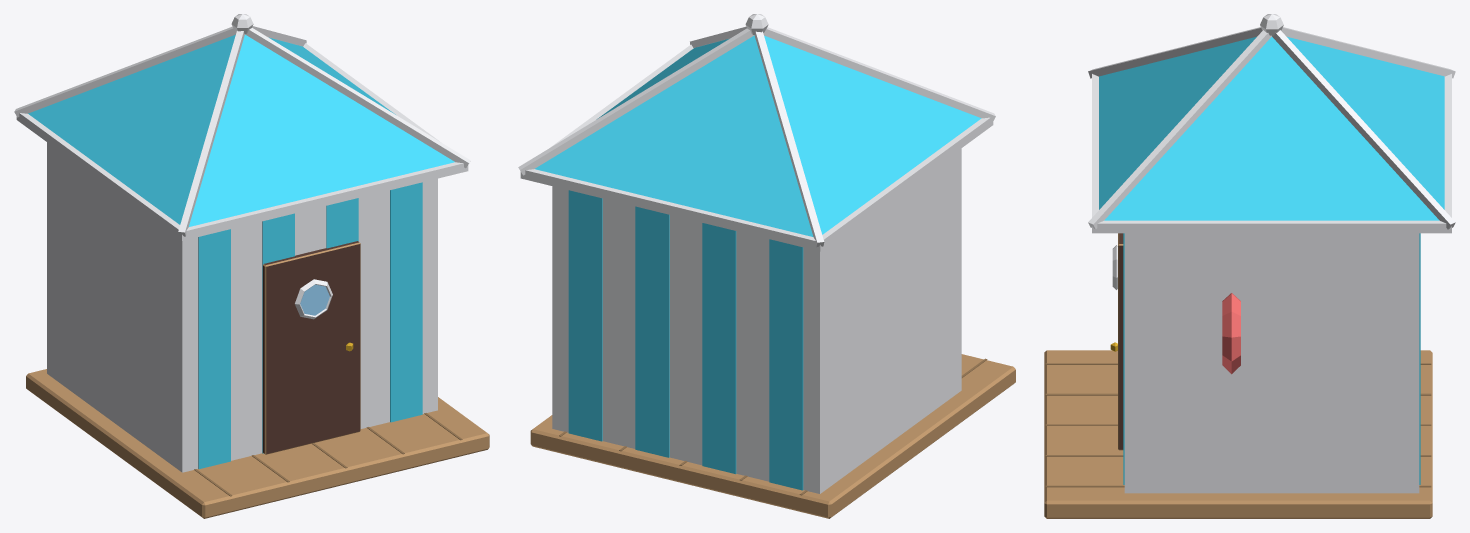
The model's file is beachHut.glb.
The picture shows the model from 3 angles, left to right: view 1: azimuth 30°, elevation 25°; view 2: azimuth 150°, elevation 25°; view 3: azimuth 270°, elevation 25°; orthographic projection. The views are drawn at different scales.
Parts seen in each view (by area): view 1: beachHut-m; view 2: beachHut-m; view 3: beachHut-m.
Part boxes in pixels (left/top/right/bottom): beachHut-m: left=14, top=14, right=489, bottom=518; beachHut-m: left=518, top=14, right=1015, bottom=518; beachHut-m: left=1044, top=14, right=1455, bottom=518.
Bounding box in the file's own units: 2.93 × 3.54 × 3.07.
